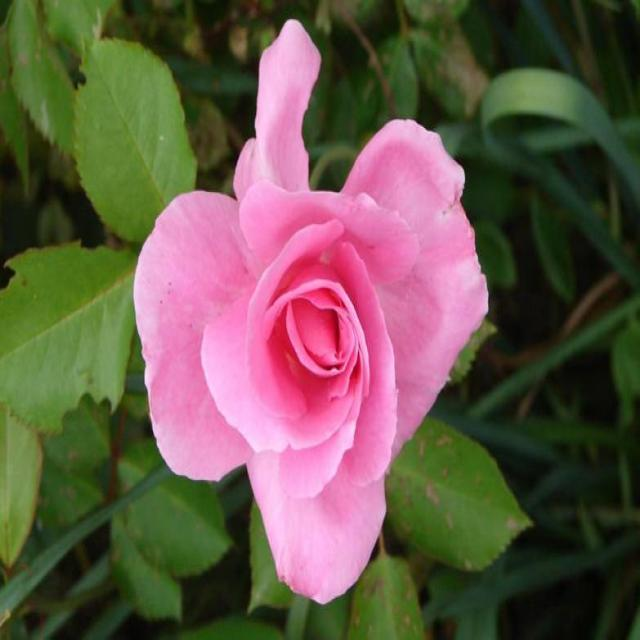rose: (134, 24, 494, 608)
